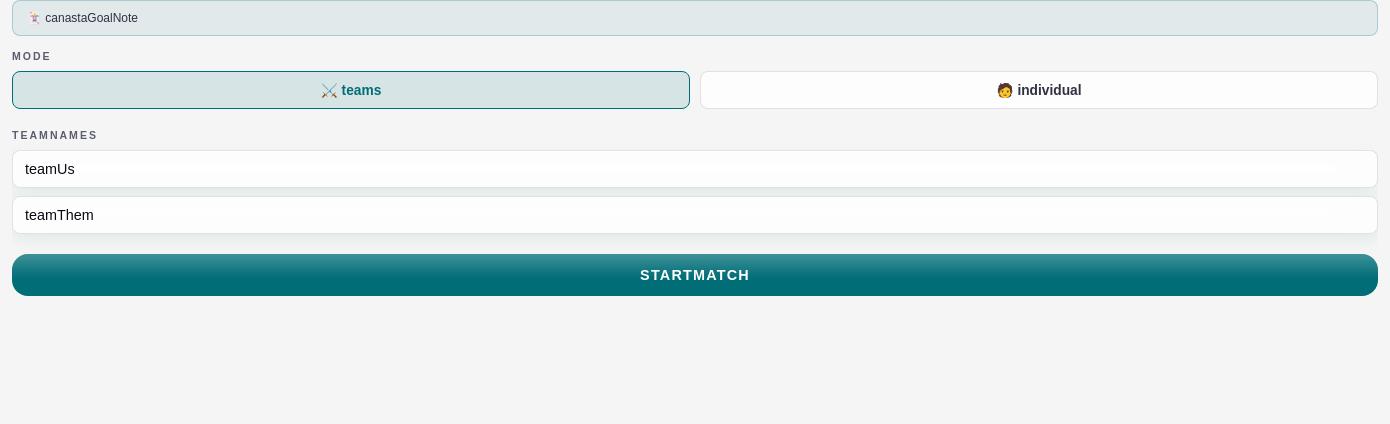
CanastaNewMatch with more than 2 players (issue #31) › individual mode with 3 players starts without crashing and renders 3 score cards
The image size is (1390, 424).
Click the button "🧑 individual" at (1039, 90), box [700,71,1378,109]
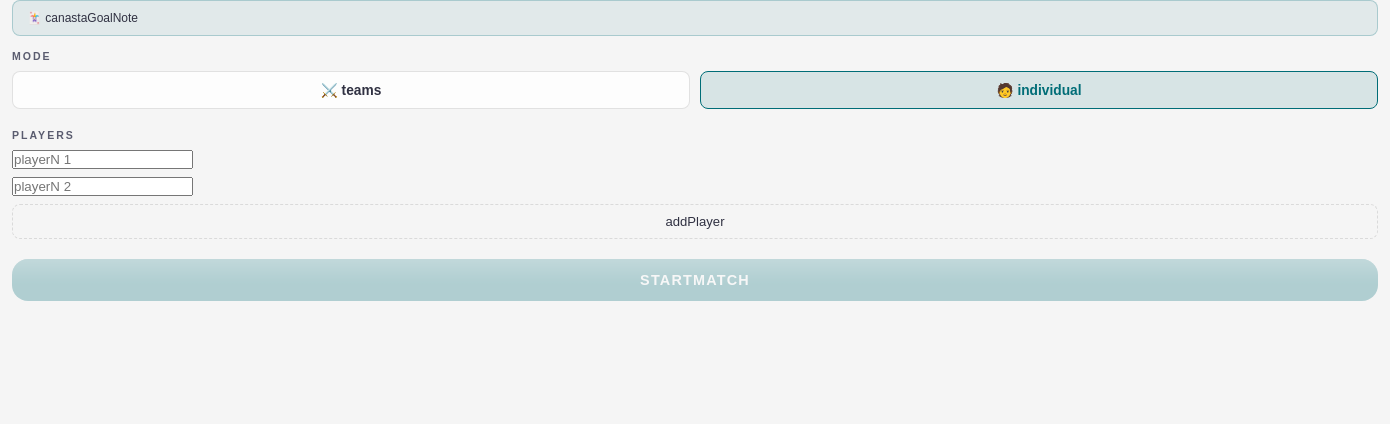
Click the button "addPlayer" at (695, 222), box [12,204,1378,239]
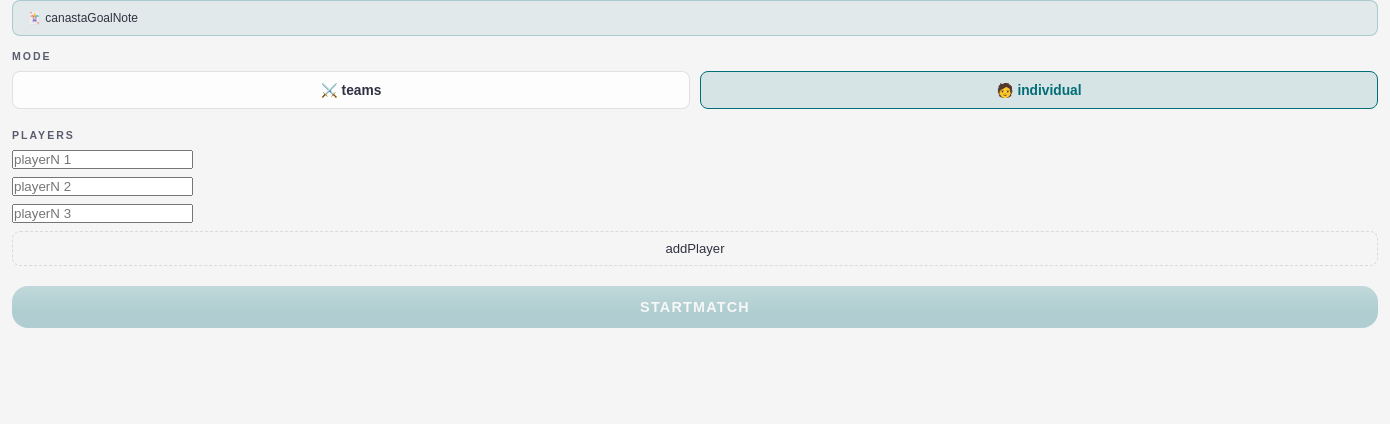
Type "Player 1" into the field with test id "linked-player-input" showing "playerN 1" at (102, 160), box [12,150,193,169]
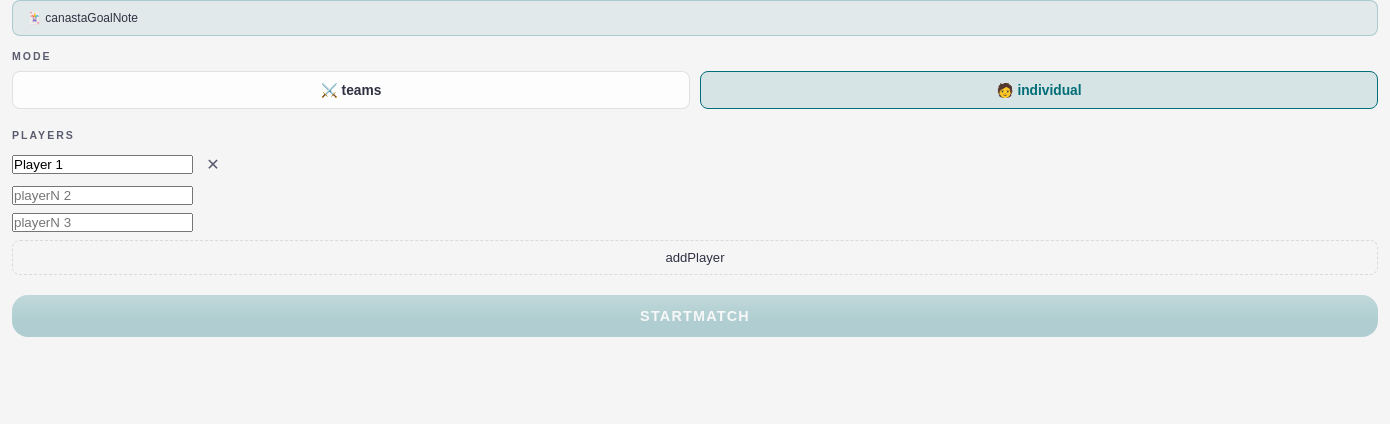
Type "Player 2" into the field with test id "linked-player-input" showing "playerN 2" at (102, 196), box [12,186,193,205]
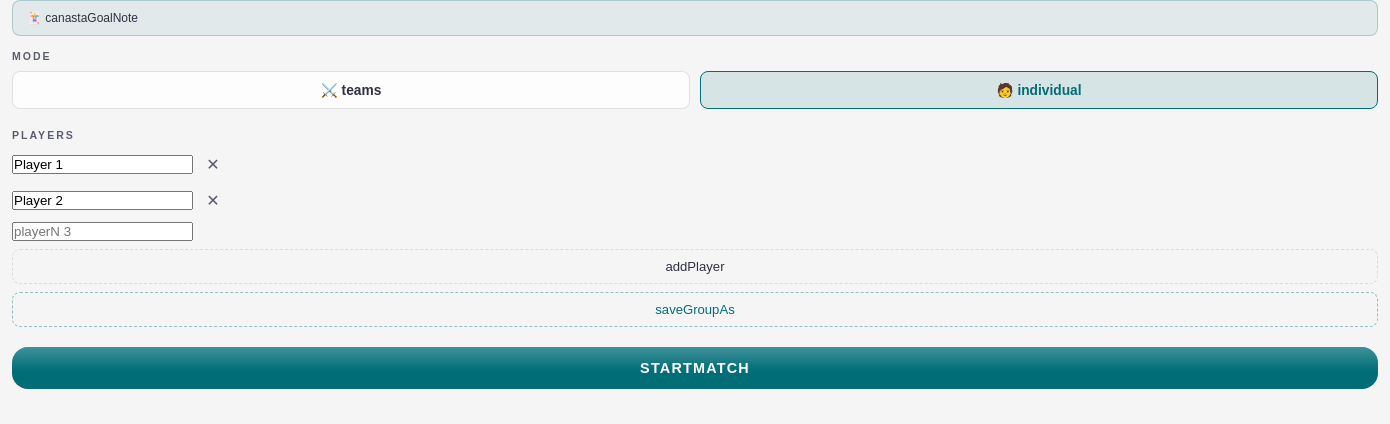
Type "Player 3" into the field with test id "linked-player-input" showing "playerN 3" at (102, 232), box [12,222,193,241]
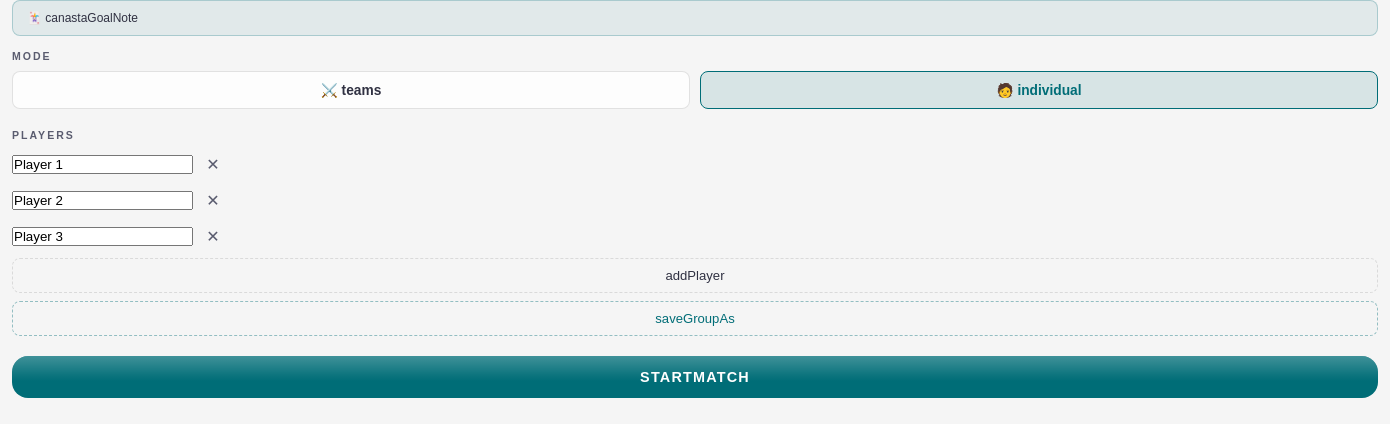
Click the button "startMatch" at (695, 377), box [12,356,1378,398]
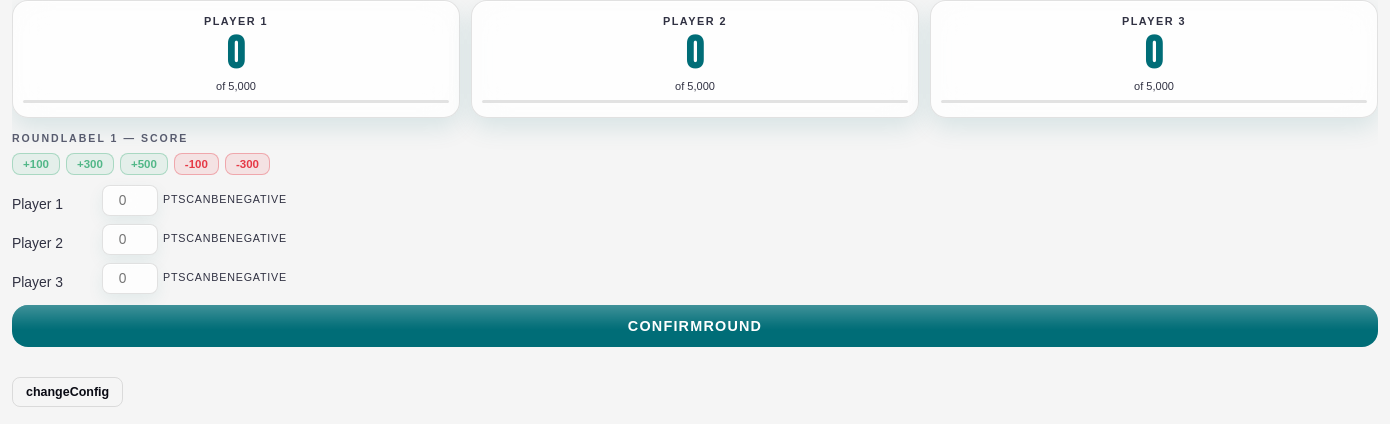
Expected: the element with test id "team-score-0" shows "0", [226,28,245,81]
Expected: the element with test id "team-score-1" shows "0", [686,28,704,81]
Expected: the element with test id "team-score-2" shows "0", [1144,28,1163,81]
